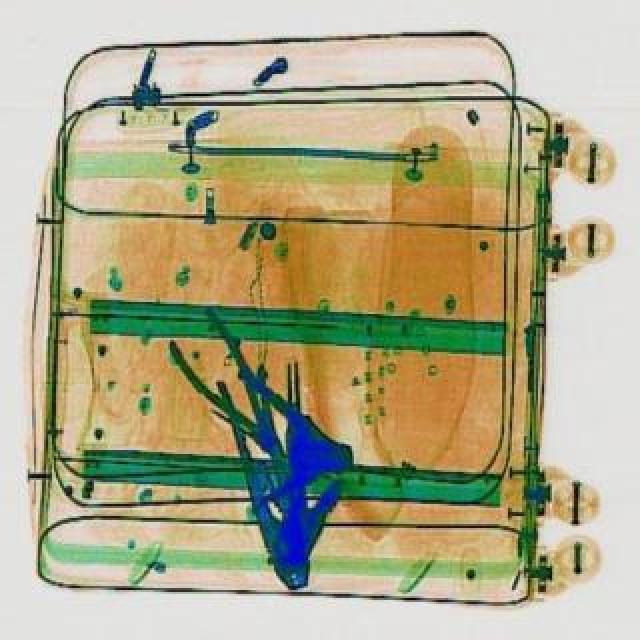wrench: (156, 302, 308, 472), (242, 448, 324, 590)
